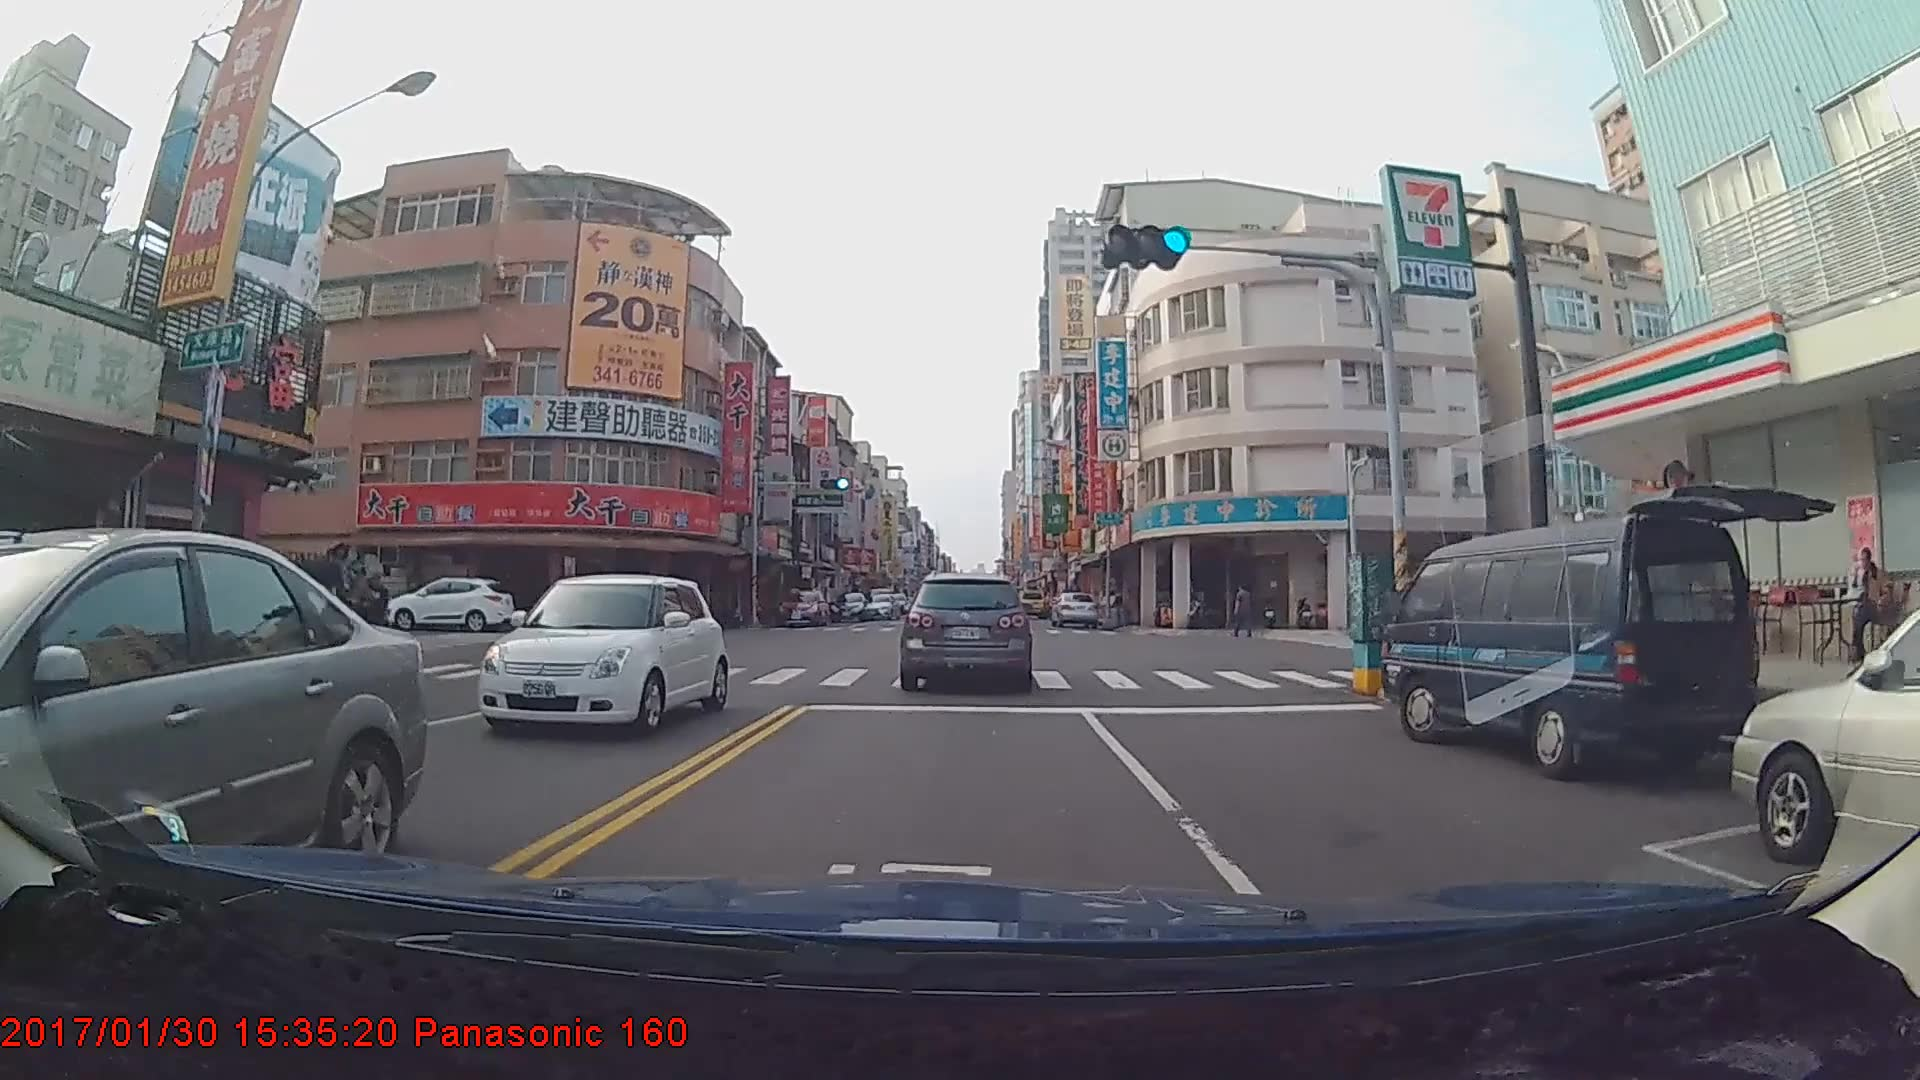pedestrian: (355, 581, 390, 667), (1233, 584, 1255, 639)
vehicle: (1, 525, 427, 924), (1376, 511, 1765, 782), (1735, 579, 1920, 915), (476, 566, 728, 738), (900, 571, 1031, 689), (386, 575, 514, 631), (1050, 589, 1100, 630), (775, 587, 824, 627), (831, 590, 870, 619), (1011, 582, 1045, 614), (863, 591, 900, 619)
